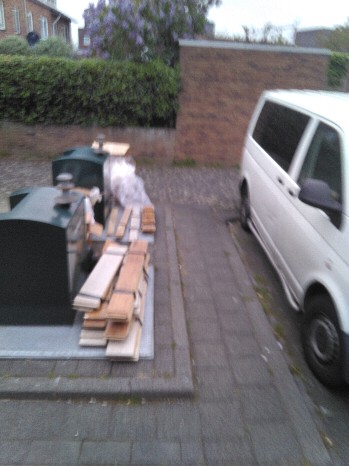Container: (19, 198, 89, 322), (62, 151, 109, 191)
Papier: (112, 148, 151, 207)
Rest: (85, 245, 155, 346), (110, 201, 152, 244)
